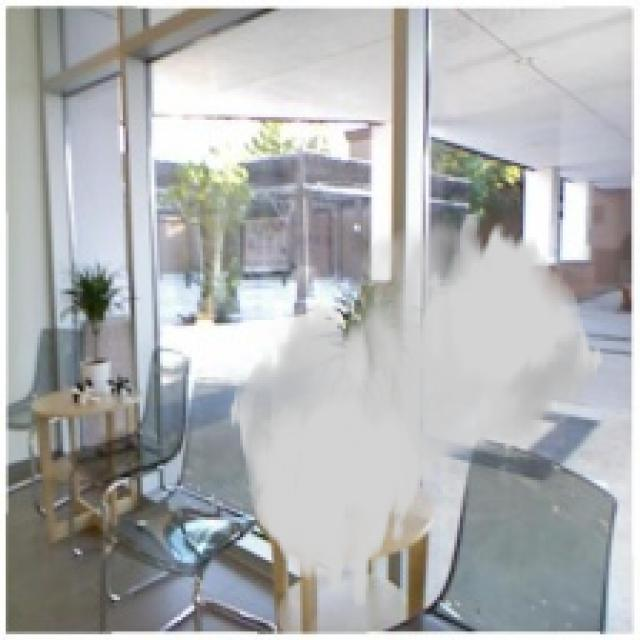Smoke: (228, 211, 606, 606)
